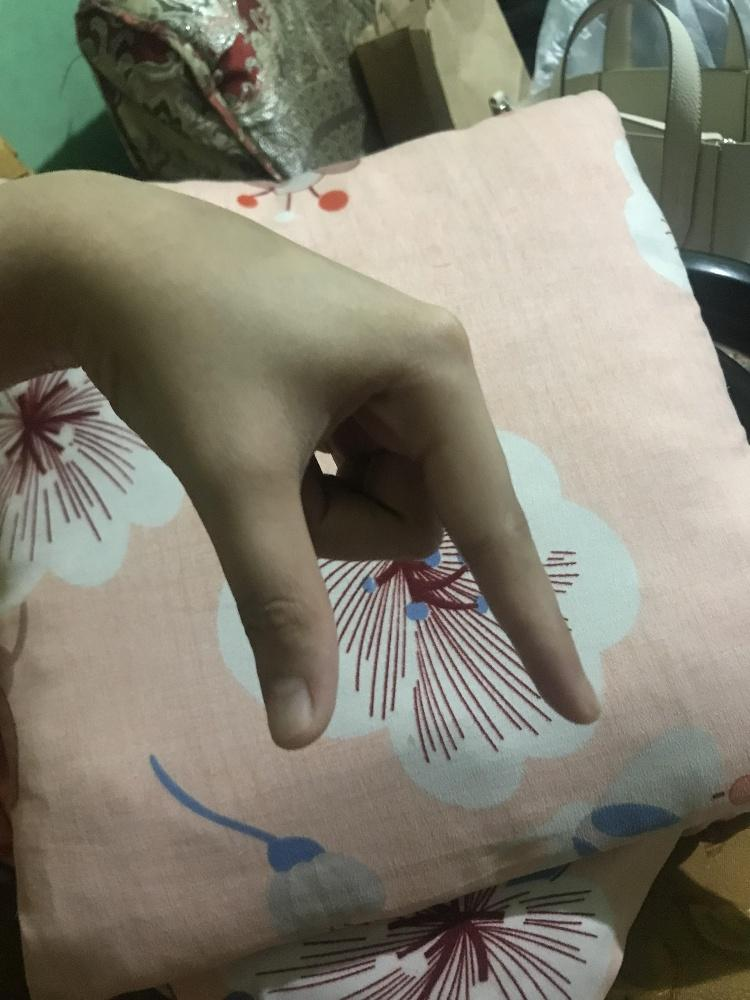q: (93, 164, 608, 759)
